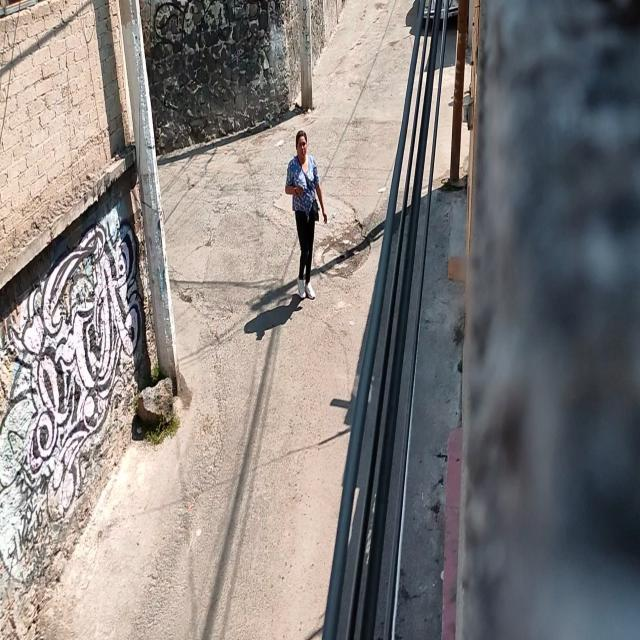adult: (283, 128, 329, 303)
